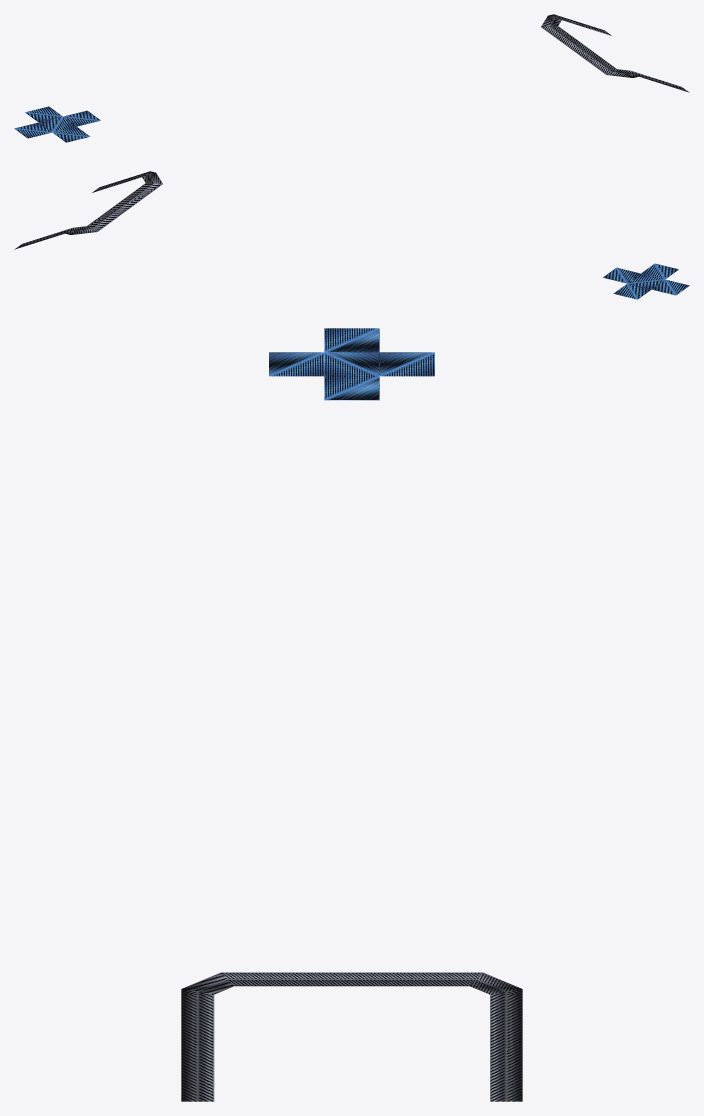
File: PelagicIIExploration_Alpha_71.glb
3 views of the same model, one above another, from view 1: azimuth 30°, elevation 25°; view 2: azimuth 150°, elevation 25°; view 3: azimuth 270°, elevation 25° (orthographic). The views are drawn at different scales.
Visible parts, largest first — view 1: PelagicIIExploration_Alpha_71; view 2: PelagicIIExploration_Alpha_71; view 3: PelagicIIExploration_Alpha_71.
Boxes of the visible parts, x1,y1,x2,y2 form: PelagicIIExploration_Alpha_71: (14, 14, 689, 142); PelagicIIExploration_Alpha_71: (14, 171, 689, 299); PelagicIIExploration_Alpha_71: (181, 328, 522, 1101).
Size of the model in its own units: 861 by 106 by 203.
Materials: 1 (1 with a texture image).
